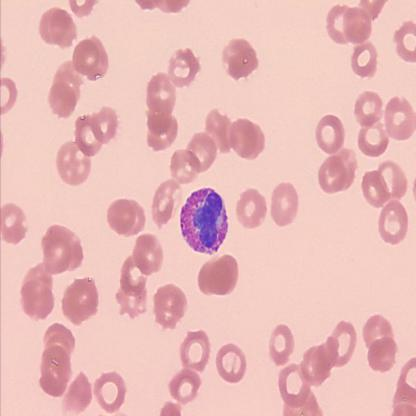Eosinophil: (179, 186, 232, 257)
